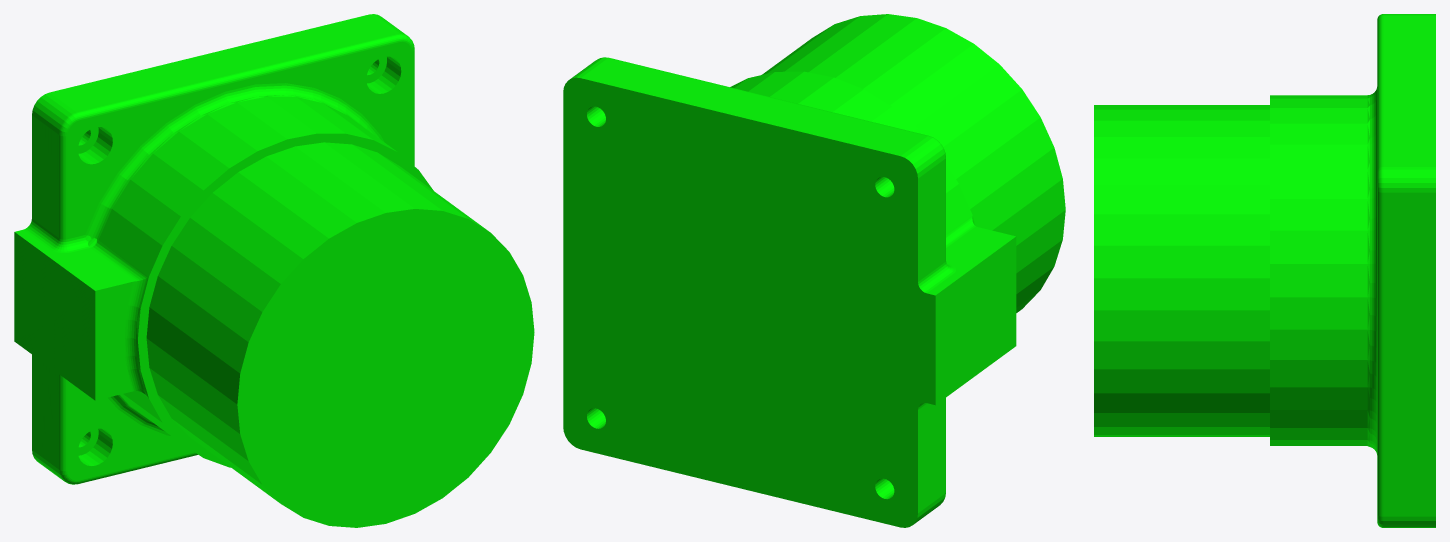
3 views of the same model, side by side, from view 1: azimuth 30°, elevation 25°; view 2: azimuth 150°, elevation 25°; view 3: azimuth 270°, elevation 25° (orthographic). The views are drawn at different scales.
Visible parts, largest first — view 1: link0; view 2: link0; view 3: link0.
Boxes of the visible parts, x1,y1,x2,y2 form: link0: [14, 14, 534, 527]; link0: [563, 14, 1065, 527]; link0: [1094, 14, 1435, 527].
Bounding box in the file's own units: 0.213 × 0.203 × 0.175.
